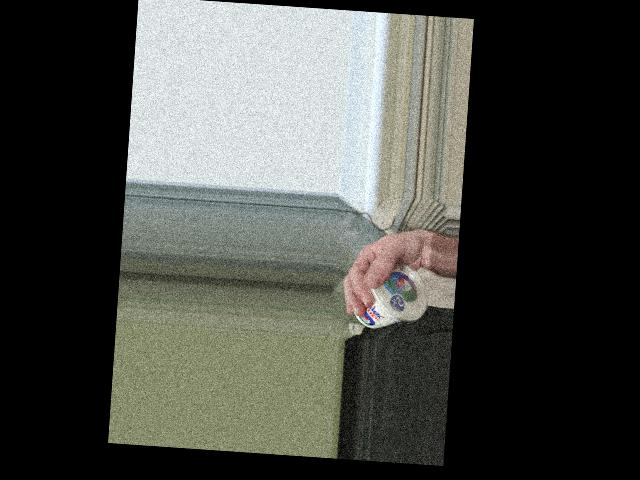cotage: (350, 260, 433, 332)
